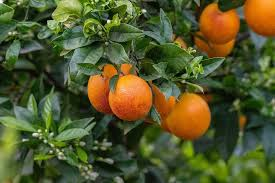orange: (171, 91, 210, 137), (110, 77, 151, 120), (200, 4, 240, 44)
